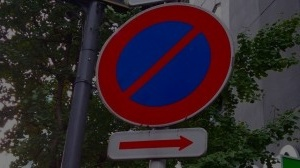Prohibition_sign: (84, 2, 243, 135)
